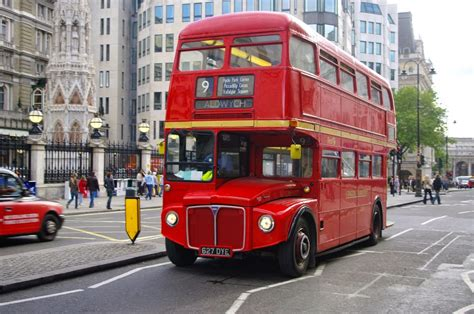bus: (168, 18, 392, 276)
car: (1, 169, 65, 239)
person: (103, 174, 116, 210), (86, 172, 98, 208), (68, 174, 78, 207), (432, 175, 443, 205), (422, 173, 432, 204), (144, 171, 155, 199)
